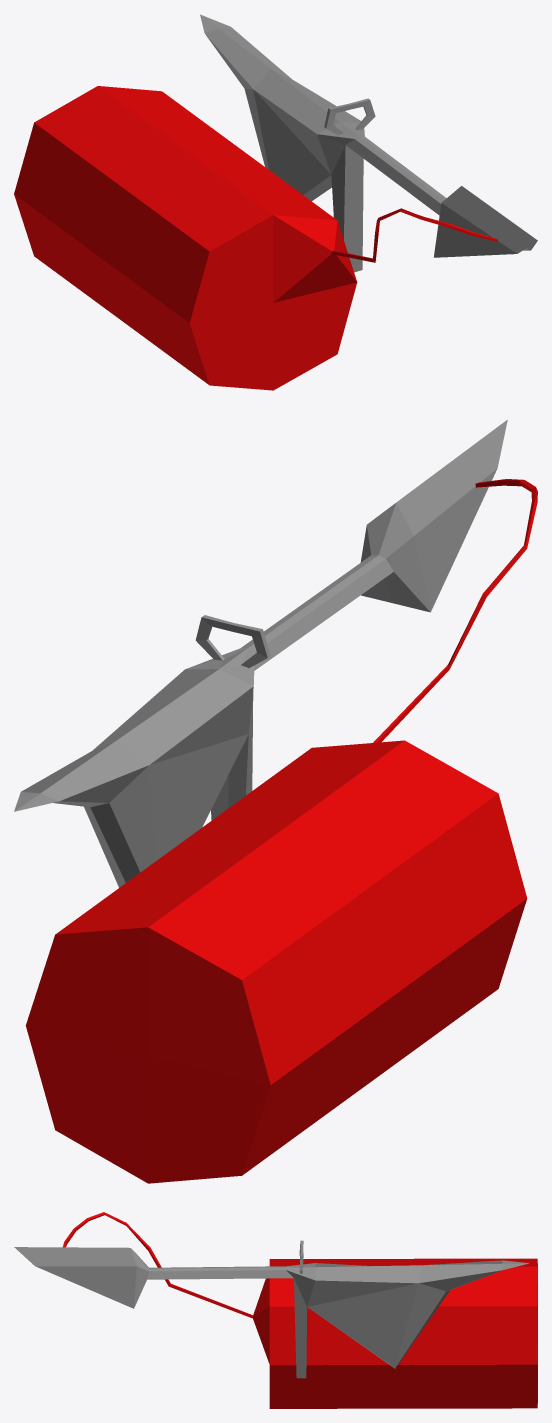
The model's file is flamethrower.glb.
The picture shows the model from 3 angles, top to bottom: view 1: azimuth 30°, elevation 25°; view 2: azimuth 150°, elevation 25°; view 3: azimuth 270°, elevation 25°; orthographic projection. The views are drawn at different scales.
Parts seen in each view (by area): view 1: Cube.001, Cube; view 2: Cube.001, Cube; view 3: Cube.001, Cube.
Part boxes in pixels (box(x1,y1,x2,y2)): Cube.001: box(14, 86, 497, 390); Cube: box(200, 14, 537, 272); Cube.001: box(25, 479, 537, 1183); Cube: box(14, 419, 507, 887); Cube.001: box(63, 1212, 537, 1408); Cube: box(14, 1240, 528, 1378).
Size of the model in its own units: 1.29 by 1.54 by 3.72.
